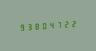eight: (33, 21, 40, 31)
four: (49, 19, 56, 30)
nine: (17, 22, 24, 32)
seven: (57, 19, 64, 29)
three: (25, 21, 32, 32)
two: (65, 18, 72, 29), (73, 18, 80, 28)
zero: (41, 20, 48, 30)
